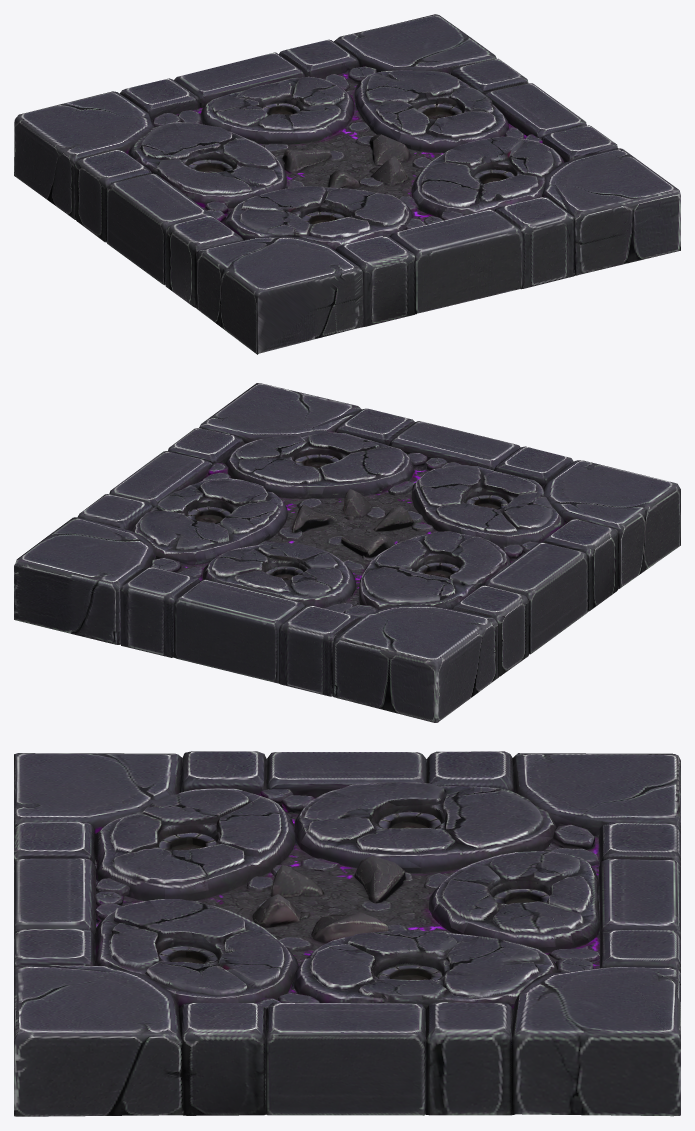
The model's file is spike_broken.glb.
3 views of the same model, one above another, from view 1: azimuth 30°, elevation 25°; view 2: azimuth 150°, elevation 25°; view 3: azimuth 270°, elevation 25° (orthographic). The views are drawn at different scales.
Bounding box in the file's own units: 1 × 0.1597 × 1.
Materials: 1 (1 with a texture image).
